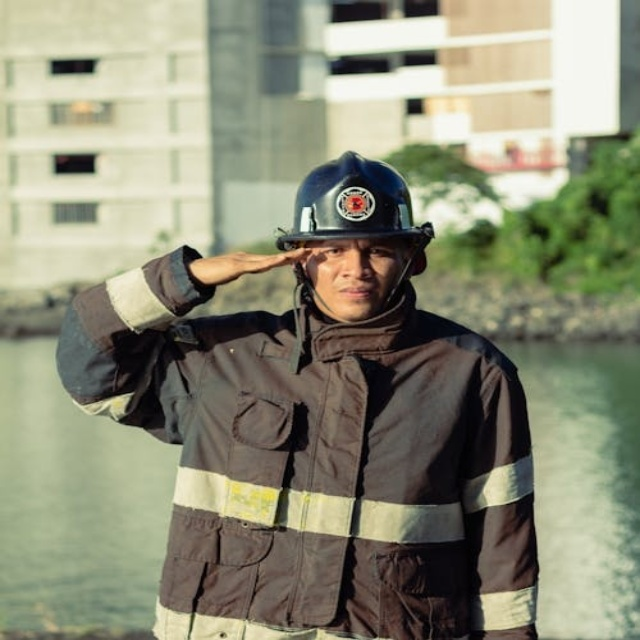Sin_gafas: (319, 240, 390, 265)
Sin_guantes: (207, 245, 307, 283)
Sin_mascara: (329, 282, 378, 309)
